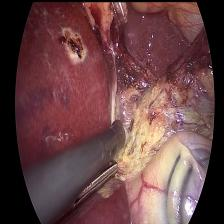Grasper: (68, 158, 123, 215)
Hook: (121, 104, 141, 152)
